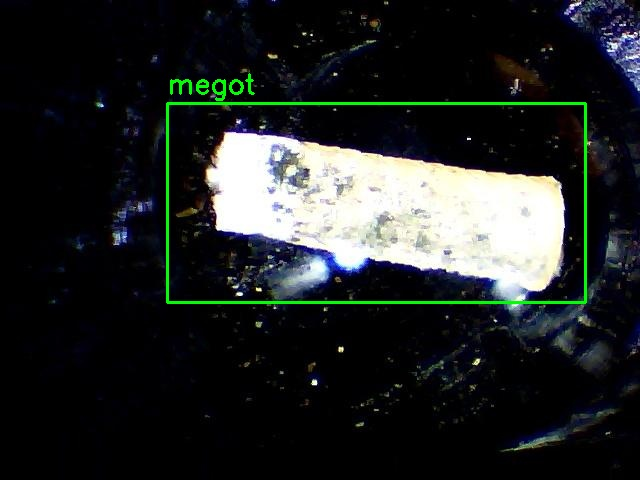megot: (167, 103, 585, 302)
